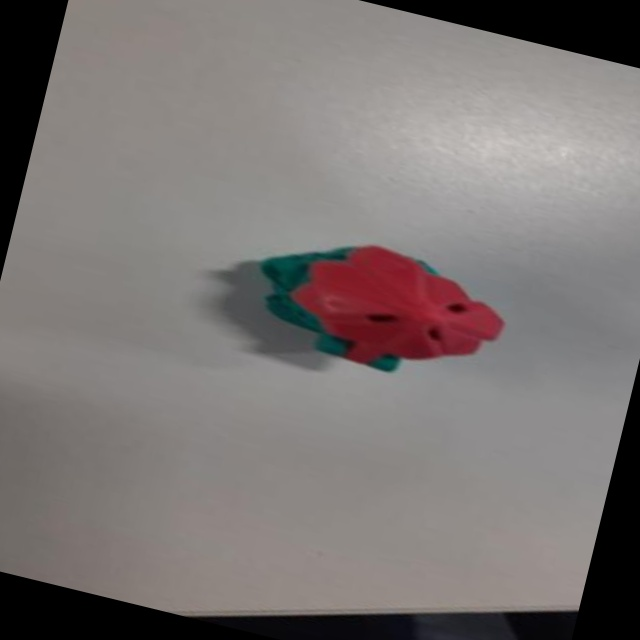House: (227, 215, 520, 399)
